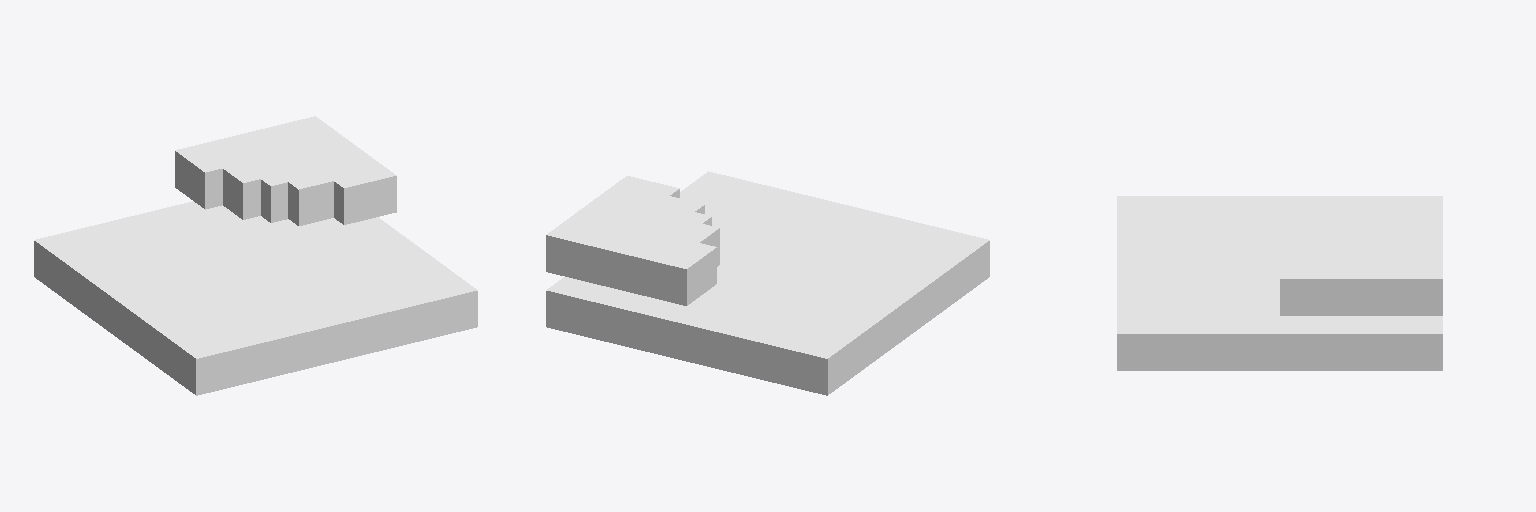
File: MagmaGroundCorner.obj
3 renders of one model, left to right at view 1: azimuth 30°, elevation 25°; view 2: azimuth 150°, elevation 25°; view 3: azimuth 270°, elevation 25°, orthographic.
Visible parts, largest first — view 1: object 1; view 2: object 1; view 3: object 1.
Part boxes in pixels (x1,y1,x2,y2): object 1: (34,116,477,395); object 1: (546,171,989,395); object 1: (1117,196,1442,370).
Bounding box in the file's own units: 1.6 × 0.5 × 1.6.